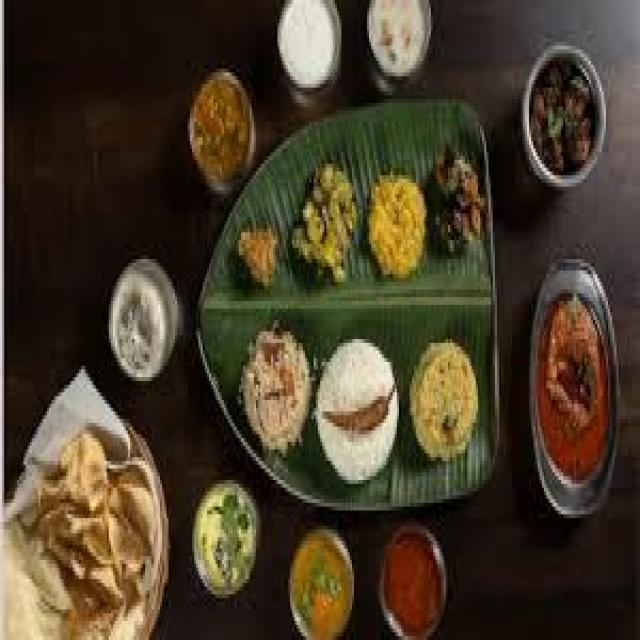papad: (4, 428, 153, 636)
pickle: (528, 298, 621, 485)
roti: (3, 430, 156, 633)
veg-fry: (527, 299, 622, 483)
